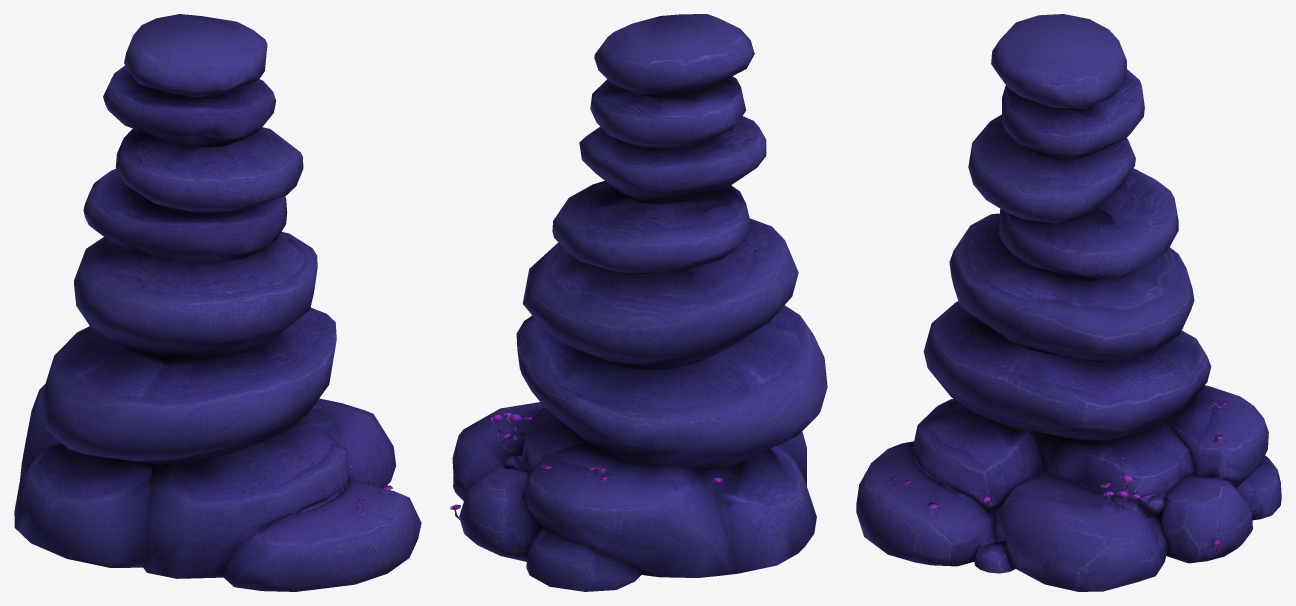
Rendered from purple_stone_cairn.glb.
3 views of the same model, side by side, from view 1: azimuth 30°, elevation 25°; view 2: azimuth 150°, elevation 25°; view 3: azimuth 270°, elevation 25° (orthographic). The views are drawn at different scales.
Parts seen in each view (by area): view 1: tripo_node_009ed1ec-2539-4ac7-9416-9866dacaa1d4; view 2: tripo_node_009ed1ec-2539-4ac7-9416-9866dacaa1d4; view 3: tripo_node_009ed1ec-2539-4ac7-9416-9866dacaa1d4.
Part boxes in pixels (bbox=[...]): tripo_node_009ed1ec-2539-4ac7-9416-9866dacaa1d4: bbox=[14, 14, 421, 591]; tripo_node_009ed1ec-2539-4ac7-9416-9866dacaa1d4: bbox=[450, 14, 827, 591]; tripo_node_009ed1ec-2539-4ac7-9416-9866dacaa1d4: bbox=[856, 14, 1281, 591].
Bounding box in the file's own units: 0.7598 × 0.998 × 0.8379.
1 material, 1 textured.
